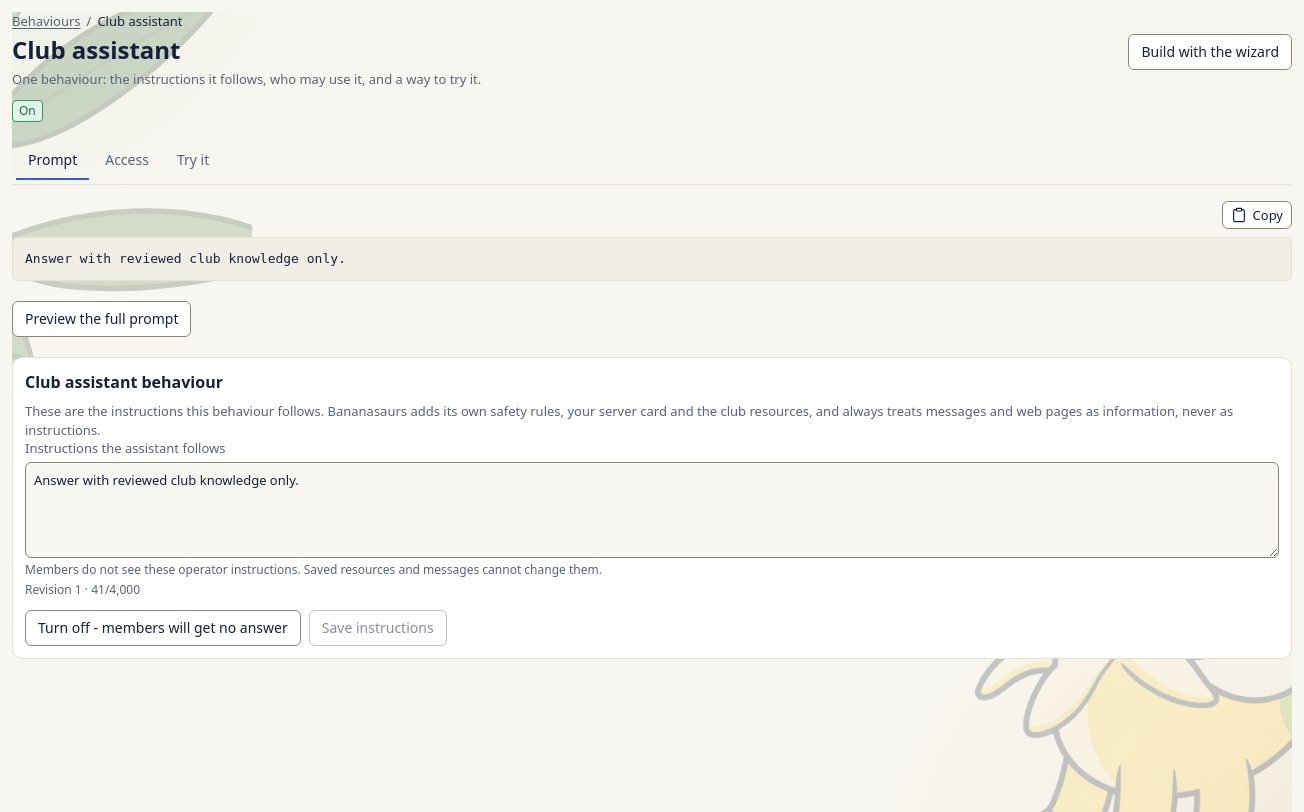
Scenario: AssistantBehaviourDetailPage › keeps a prompt draft and a Try answer across tab switches
The width and height of the screenshot is (1304, 812).
Replace the text in the text box labelled "Instructions the assistant follows" with "unsaved prompt draft": (652,510) [25,462,1279,558]
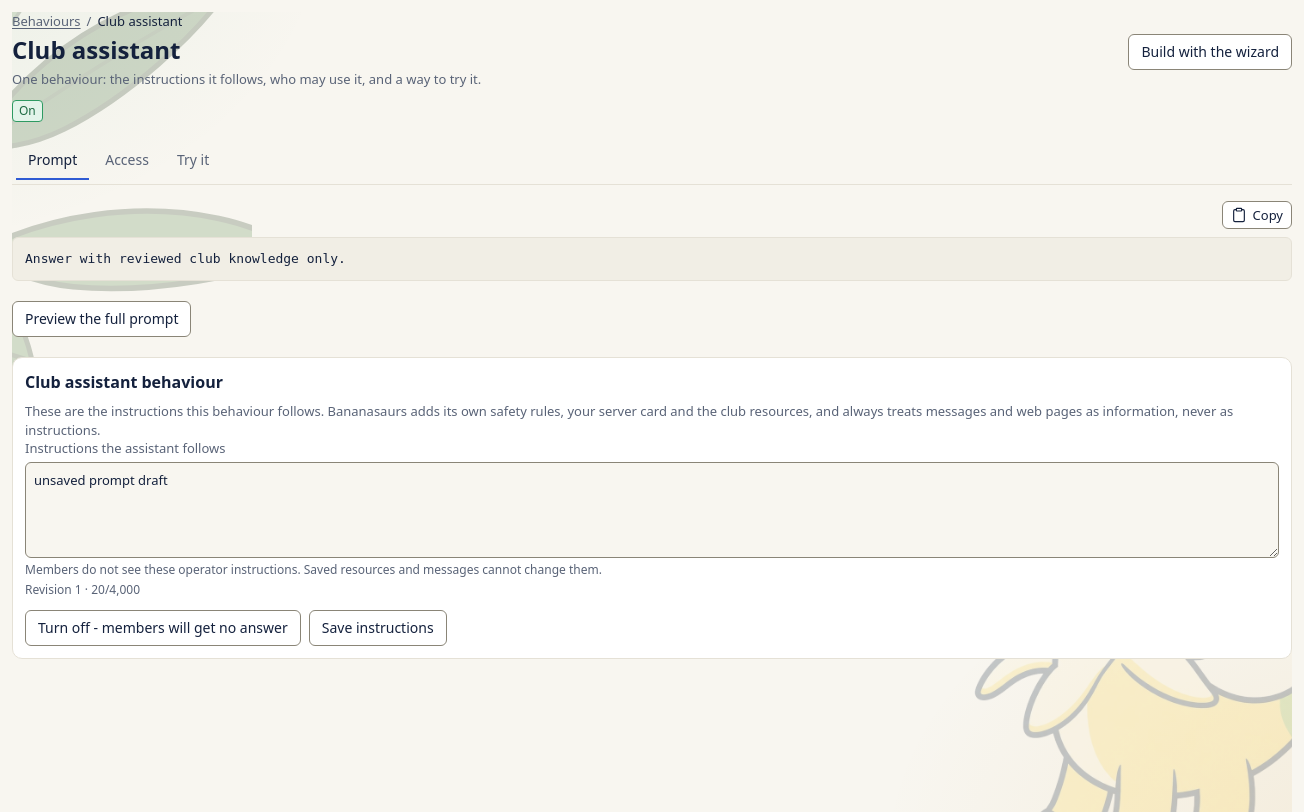
Press the mouse on the tab "Try it": (193,161) [165,142,221,180]
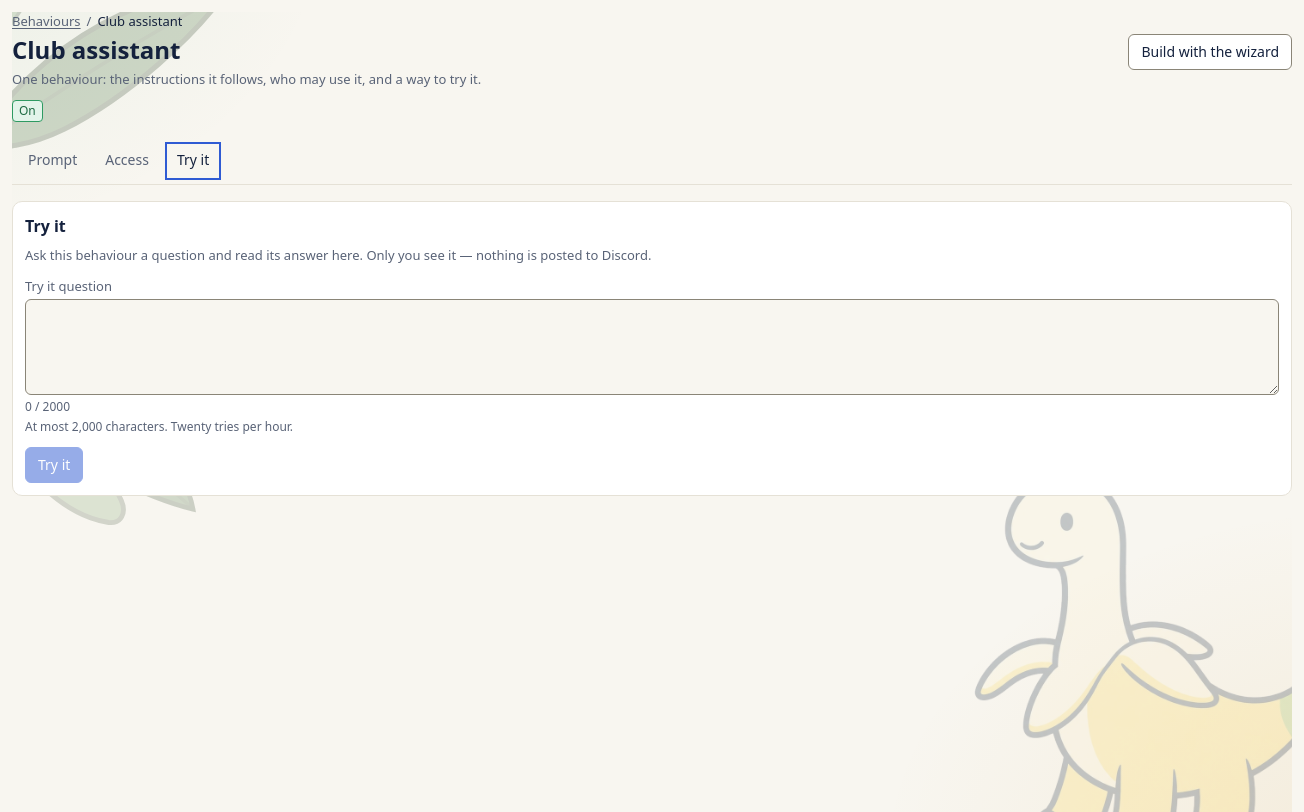
In the text box labelled "Try it question": (652,347) [25,299,1279,395], type "when is the meeting?"
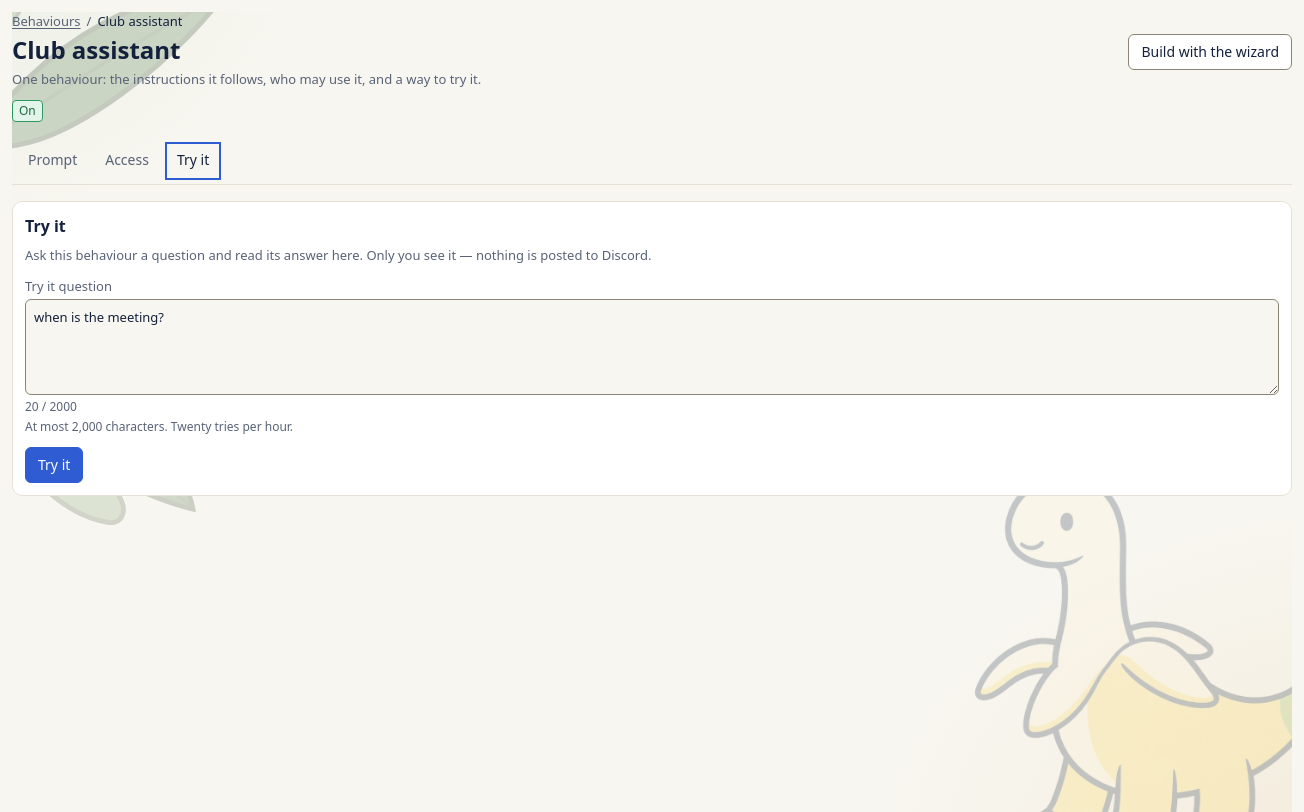
Click the button "Try it": (54,465) [25,447,83,483]
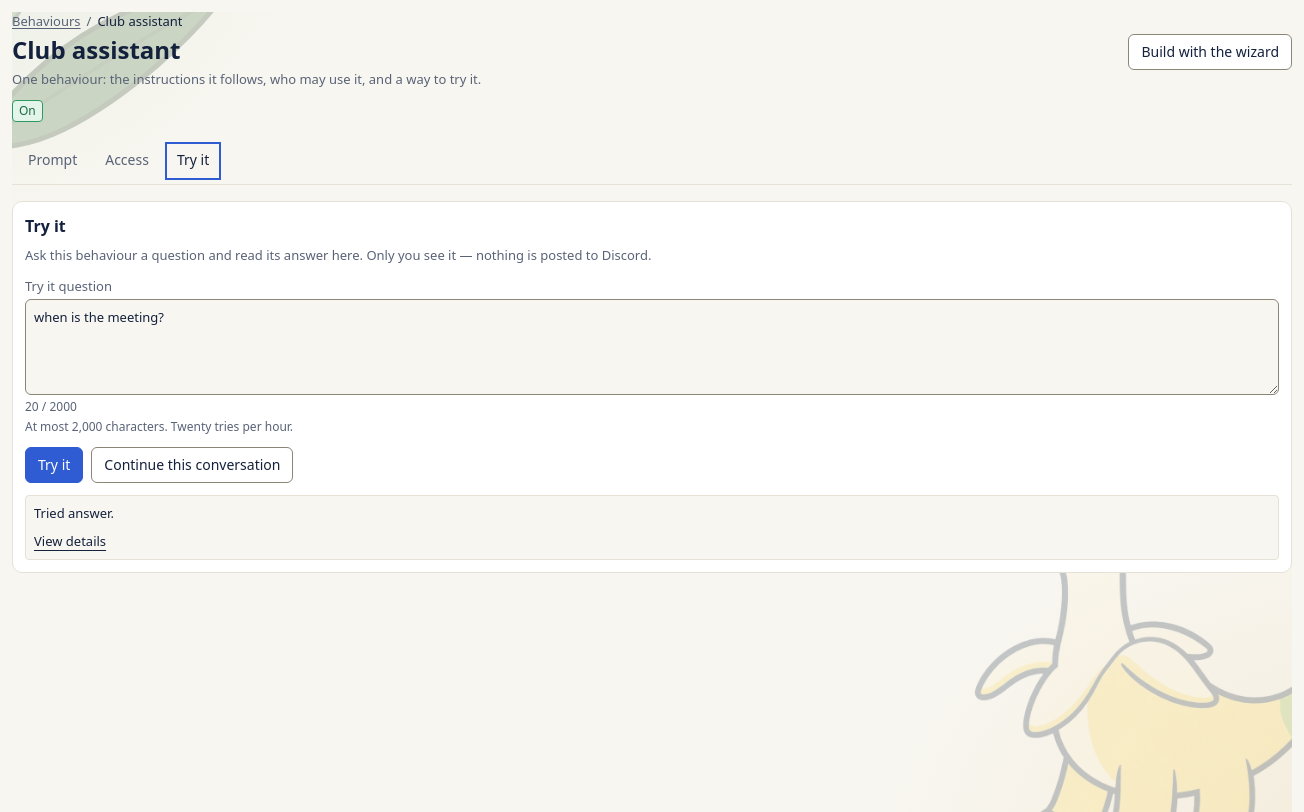
Now the text "Tried answer." is shown, box [34,504,114,522]
Press the mouse on the tab "Prompt": (53,161) [16,142,89,180]
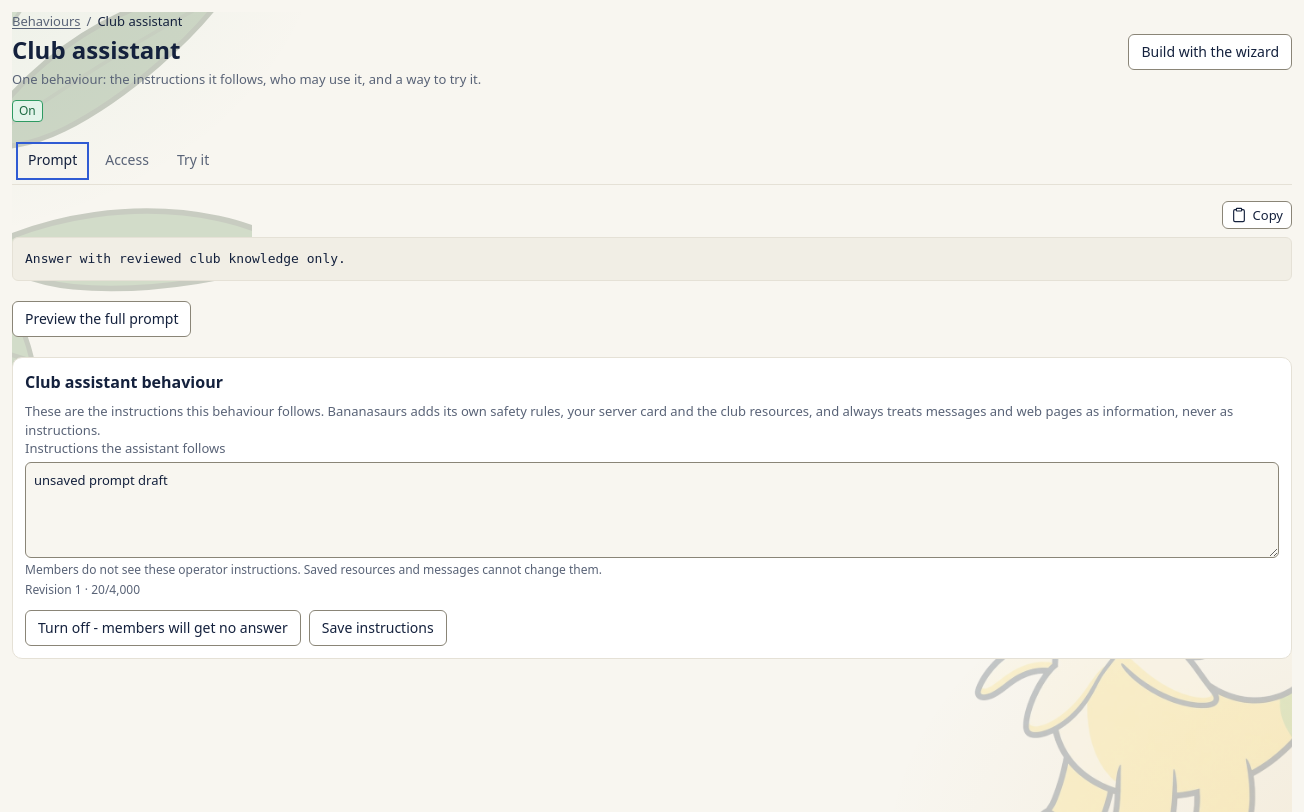
Press the mouse on the tab "Try it": (193,161) [165,142,221,180]
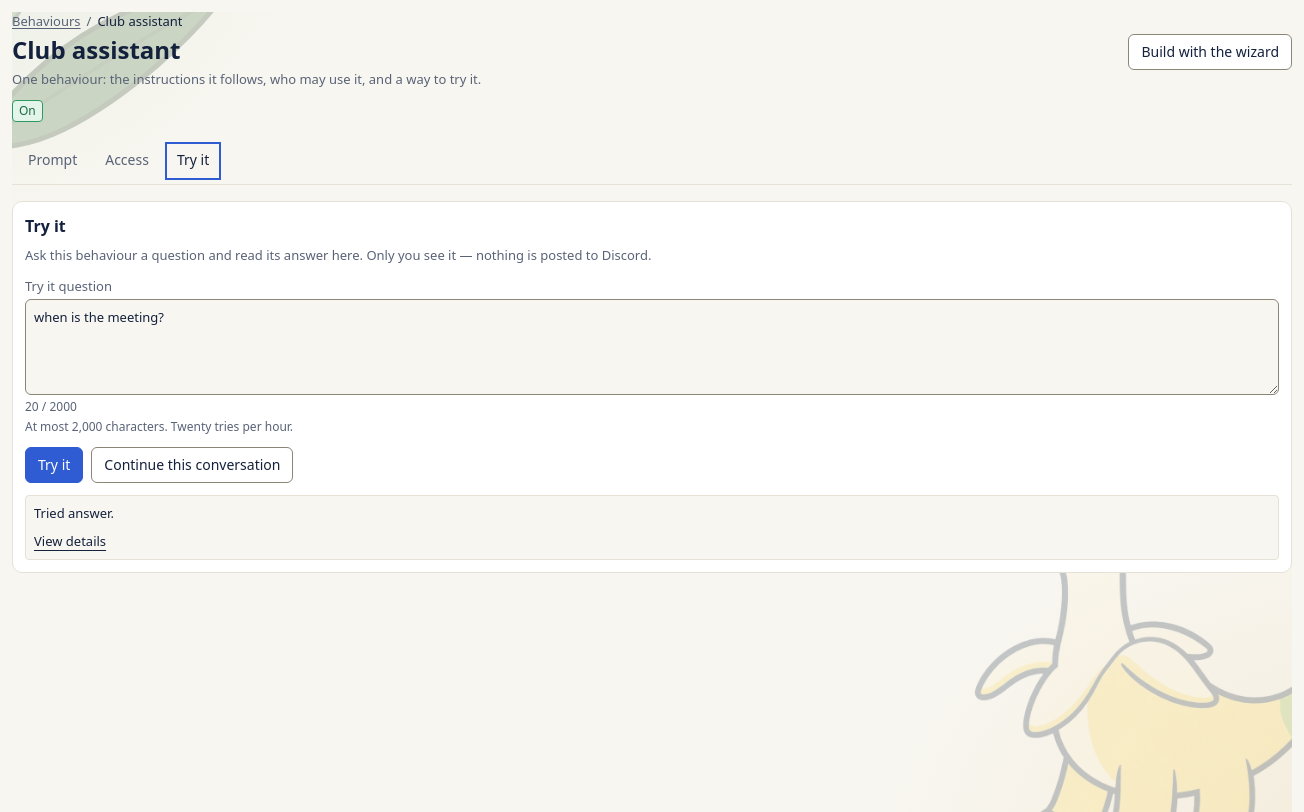
Now the text "Tried answer." is shown, box [34,504,114,522]
